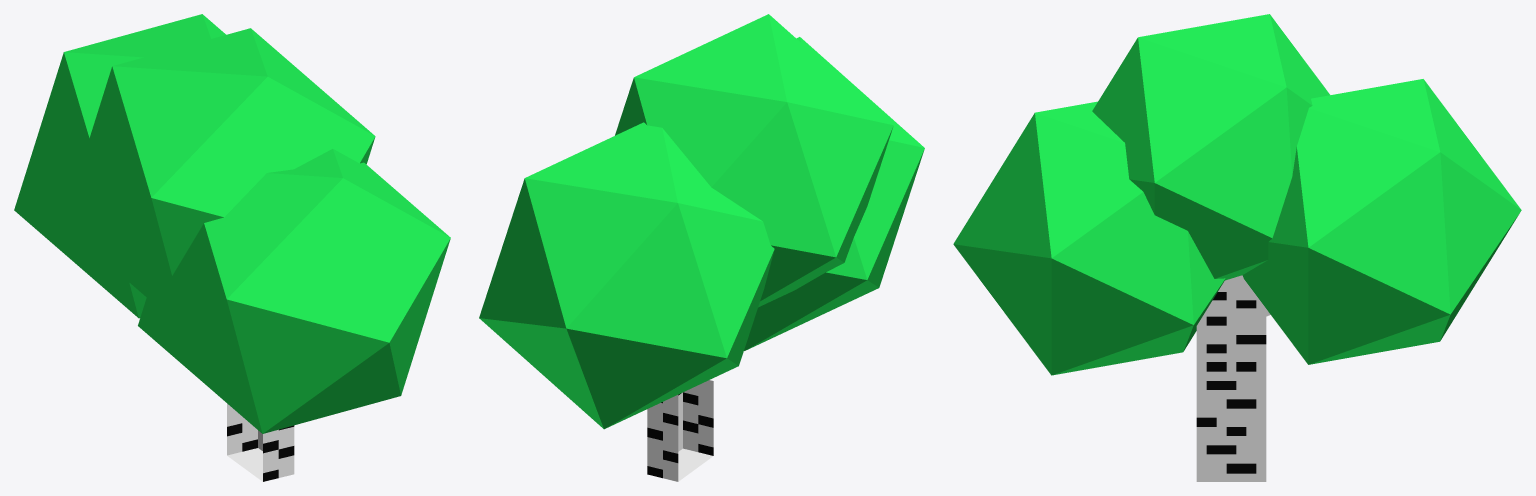
Rendered from wood11.fbx.
The picture shows the model from 3 angles, left to right: view 1: azimuth 30°, elevation 25°; view 2: azimuth 150°, elevation 25°; view 3: azimuth 270°, elevation 25°; orthographic projection. The views are drawn at different scales.
Visible parts, largest first — view 1: wood.010; view 2: wood.010; view 3: wood.010.
Boxes of the visible parts, x1,y1,x2,y2 form: wood.010: [14, 14, 450, 481]; wood.010: [479, 14, 924, 481]; wood.010: [953, 14, 1521, 481].
Bounding box in the file's own units: 190 × 276 × 340.
